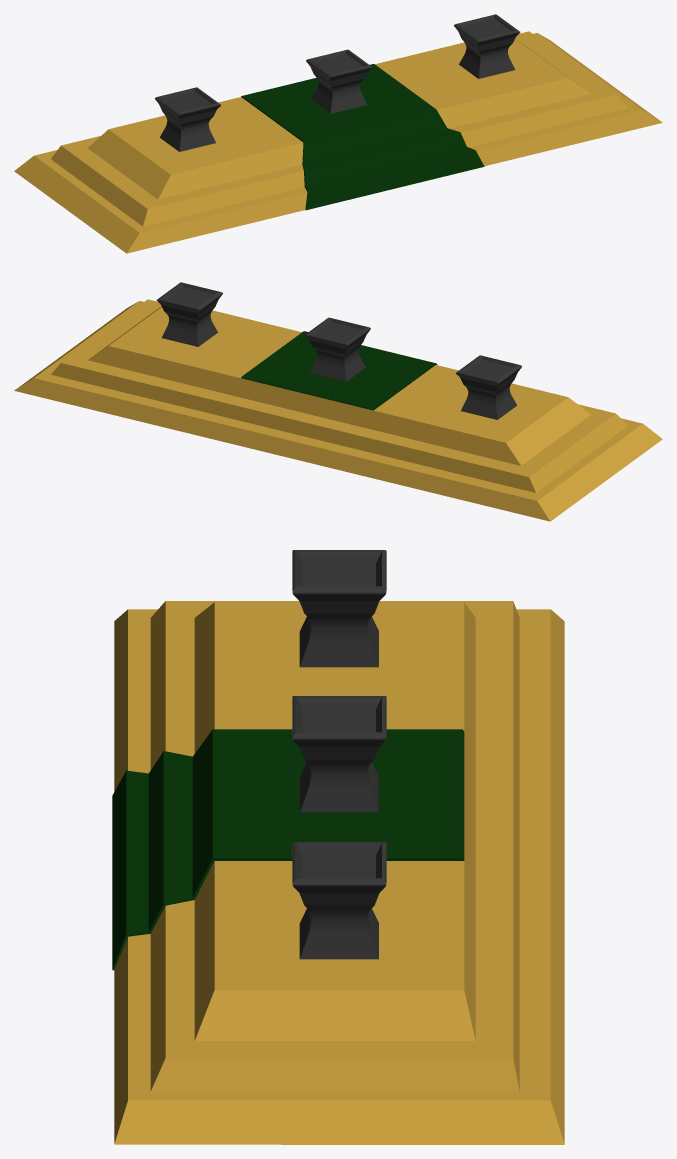
The model's file is STAND FOR TROPHIES.fbx.
3 renders of one model, top to bottom at view 1: azimuth 30°, elevation 25°; view 2: azimuth 150°, elevation 25°; view 3: azimuth 270°, elevation 25°, orthographic. The views are drawn at different scales.
Parts seen in each view (by area): view 1: Cube.004 (×2), Cube.001; view 2: Cube.004 (×2), Cube.001; view 3: Cube.004 (×2), Cube.001.
Part boxes in pixels (<box>): Cube.004 (×2): <box>14,31,662,253</box>; Cube.001: <box>155,14,520,151</box>; Cube.004 (×2): <box>14,299,662,521</box>; Cube.001: <box>156,282,521,419</box>; Cube.004 (×2): <box>112,601,564,1144</box>; Cube.001: <box>292,550,386,959</box>.
Size of the model in its own units: 7869 by 1185 by 2874.
